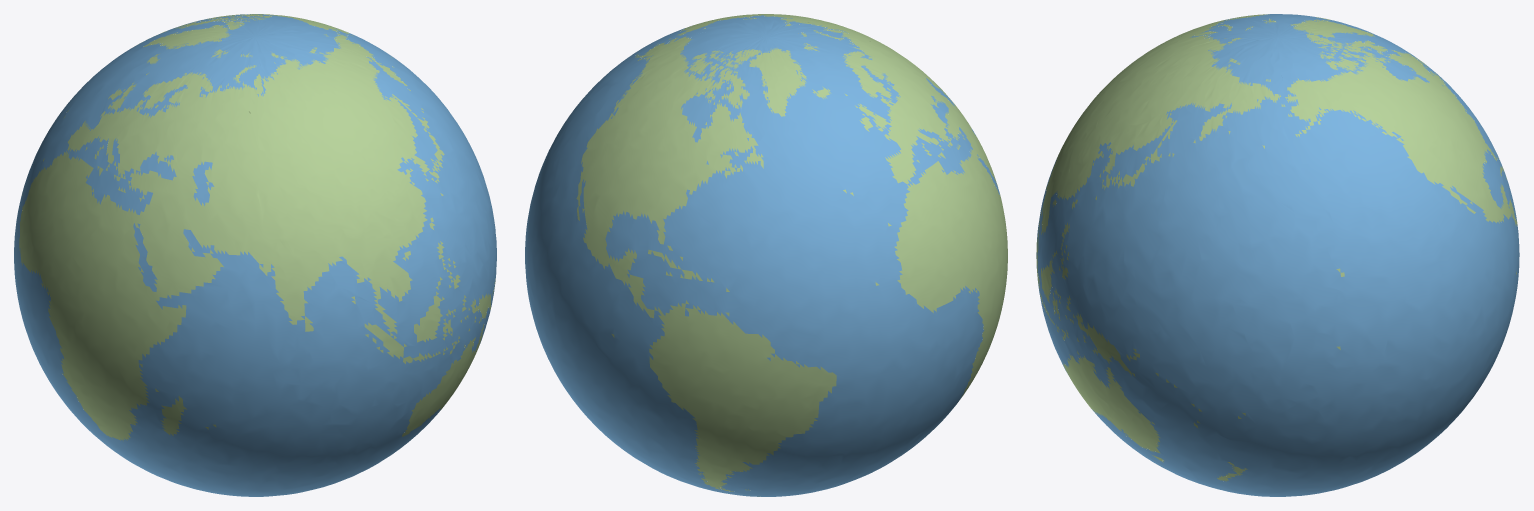
Rendered from earth_layers.glb.
The picture shows the model from 3 angles, left to right: view 1: azimuth 30°, elevation 25°; view 2: azimuth 150°, elevation 25°; view 3: azimuth 270°, elevation 25°; orthographic projection.
Visible parts, largest first — view 1: oceanic_crust, continental_crust; view 2: oceanic_crust, continental_crust; view 3: oceanic_crust, continental_crust.
Part boxes in pixels (bbox=[...]): oceanic_crust: bbox=[14, 14, 496, 496]; continental_crust: bbox=[19, 14, 495, 441]; oceanic_crust: bbox=[525, 15, 999, 496]; continental_crust: bbox=[576, 14, 1007, 496]; oceanic_crust: bbox=[1036, 14, 1519, 496]; continental_crust: bbox=[1036, 14, 1517, 481].
Bounding box in the file's own units: 0.2 × 0.2 × 0.2.
